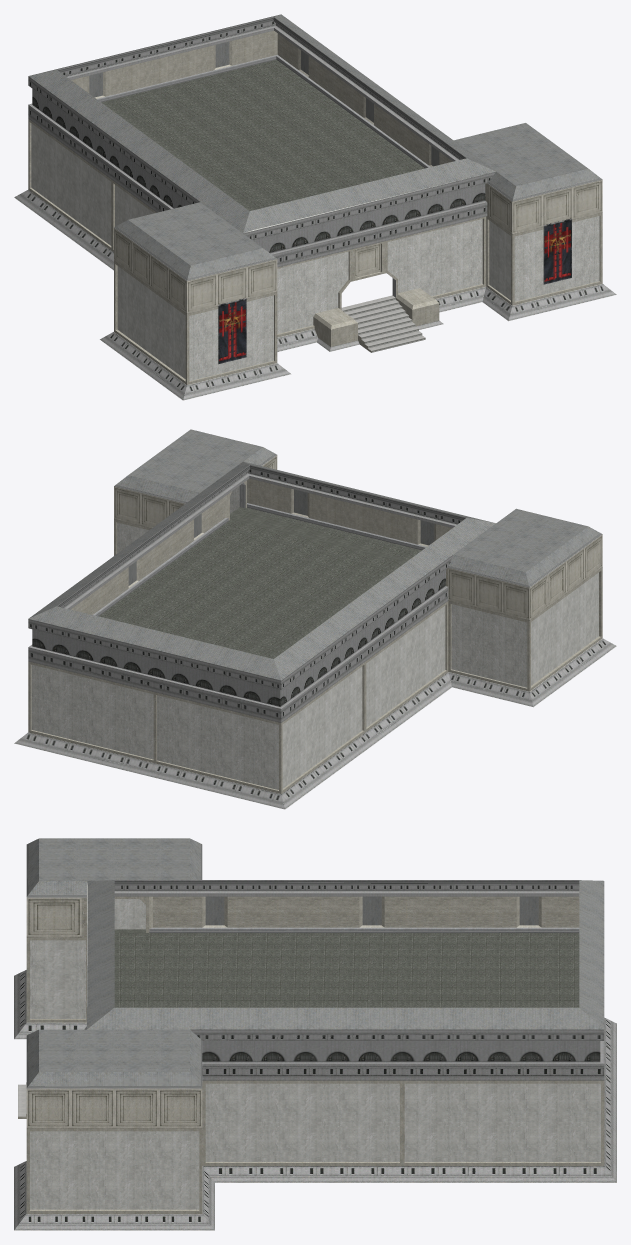
Rendered from thm_corl_assoc_hall_civ_s01_r0_exterior_mesh_exterior_l0.fbx.
The picture shows the model from 3 angles, top to bottom: view 1: azimuth 30°, elevation 25°; view 2: azimuth 150°, elevation 25°; view 3: azimuth 270°, elevation 25°; orthographic projection. The views are drawn at different scales.
Visible parts, largest first — view 1: mesh_node; view 2: mesh_node; view 3: mesh_node.
Boxes of the visible parts, bbox=[...] form: mesh_node: bbox=[14, 14, 616, 400]; mesh_node: bbox=[14, 429, 616, 809]; mesh_node: bbox=[14, 838, 616, 1230].
Bounding box in the file's own units: 48 × 14 × 48.
